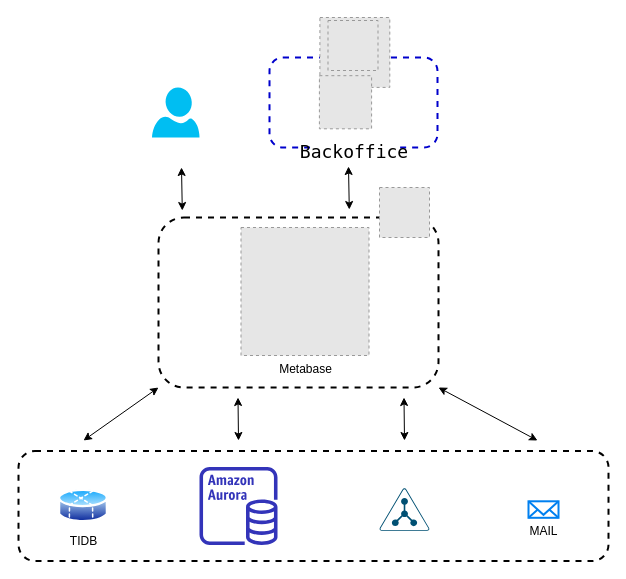
Image size: 626x579. Some labels were removed from this diagram. Grey dashed boxes stand in for pictures. The shapes that lost their labels are listed below. From the top down, each one's centre as x and y in pixels, then its label:
At point (175, 112): "User".
At point (404, 509): "LDAP".
